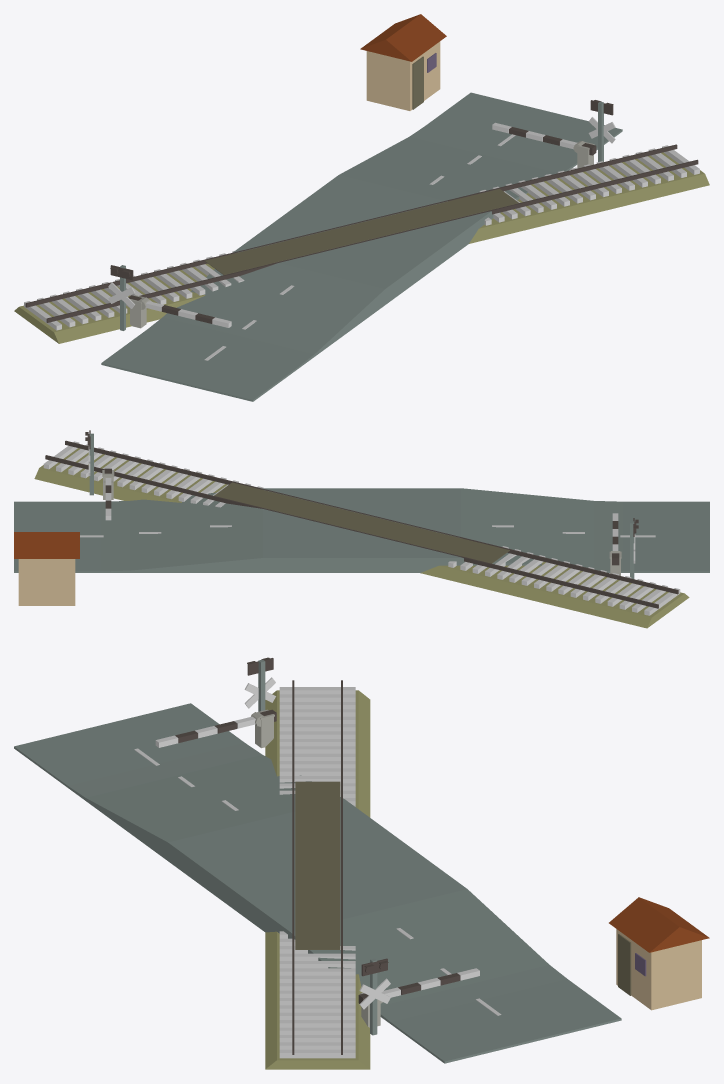
Rendered from SM_PasoNivel_30E_v0_Teja_LOD0.fbx.
3 renders of one model, top to bottom at view 1: azimuth 30°, elevation 25°; view 2: azimuth 150°, elevation 25°; view 3: azimuth 270°, elevation 25°, orthographic. The views are drawn at different scales.
Visible parts, largest first — view 1: SM_paso_nivel_kit_v35_LOD0, Barrera_1, Barrera_2; view 2: SM_paso_nivel_kit_v35_LOD0, Barrera_1, Barrera_2; view 3: SM_paso_nivel_kit_v35_LOD0, Barrera_2, Barrera_1.
Boxes of the visible parts, x1,y1,x2,y2 form: SM_paso_nivel_kit_v35_LOD0: [14, 14, 709, 401]; Barrera_1: [492, 122, 596, 155]; Barrera_2: [128, 295, 231, 327]; SM_paso_nivel_kit_v35_LOD0: [14, 430, 709, 628]; Barrera_1: [103, 468, 112, 520]; Barrera_2: [611, 513, 620, 565]; SM_paso_nivel_kit_v35_LOD0: [14, 657, 709, 1069]; Barrera_2: [155, 709, 276, 747]; Barrera_1: [358, 968, 479, 1003].
Bounding box in the file's own units: 30 × 3 × 23.85.
